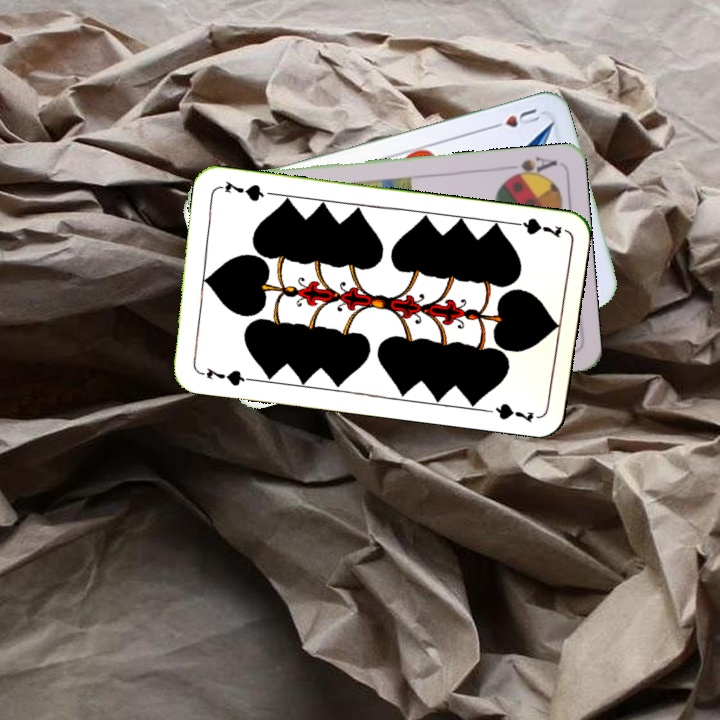G7: (506, 214, 564, 241), (194, 363, 253, 388)
HU: (485, 104, 543, 132)
SA: (502, 152, 560, 182)
